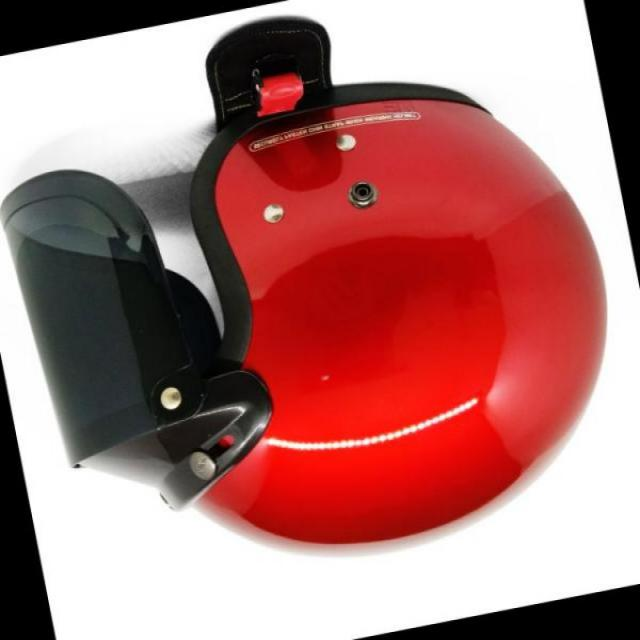Helmet: (11, 11, 611, 540)
